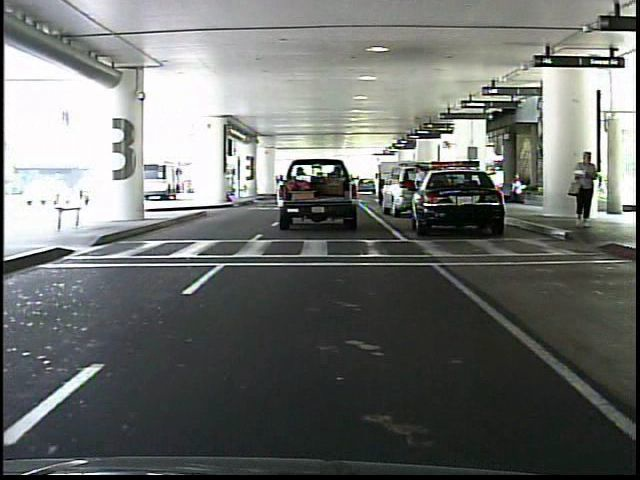person: (569, 147, 603, 233), (408, 160, 430, 219)
